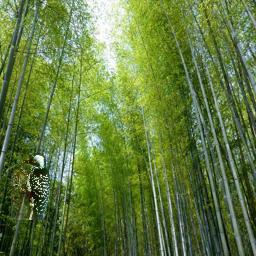Woodpecker: (11, 153, 50, 220)
